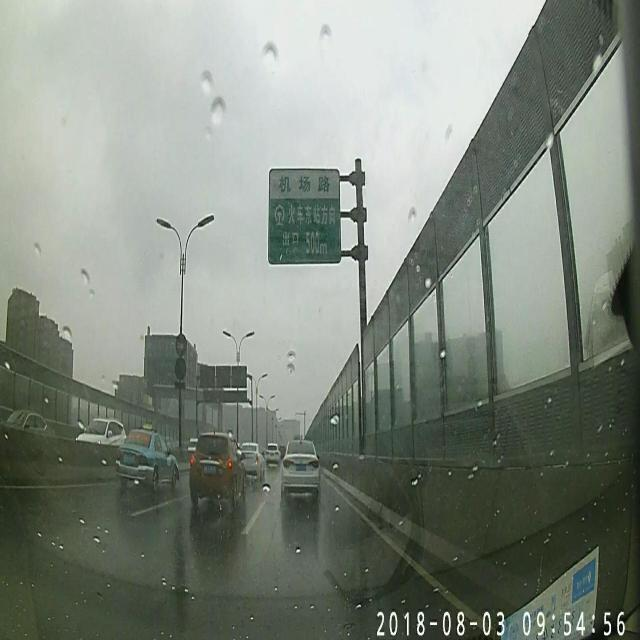car: (188, 430, 246, 510), (114, 422, 180, 490), (280, 436, 322, 502), (0, 408, 56, 453), (77, 418, 129, 452), (240, 440, 266, 478), (265, 440, 281, 468)
